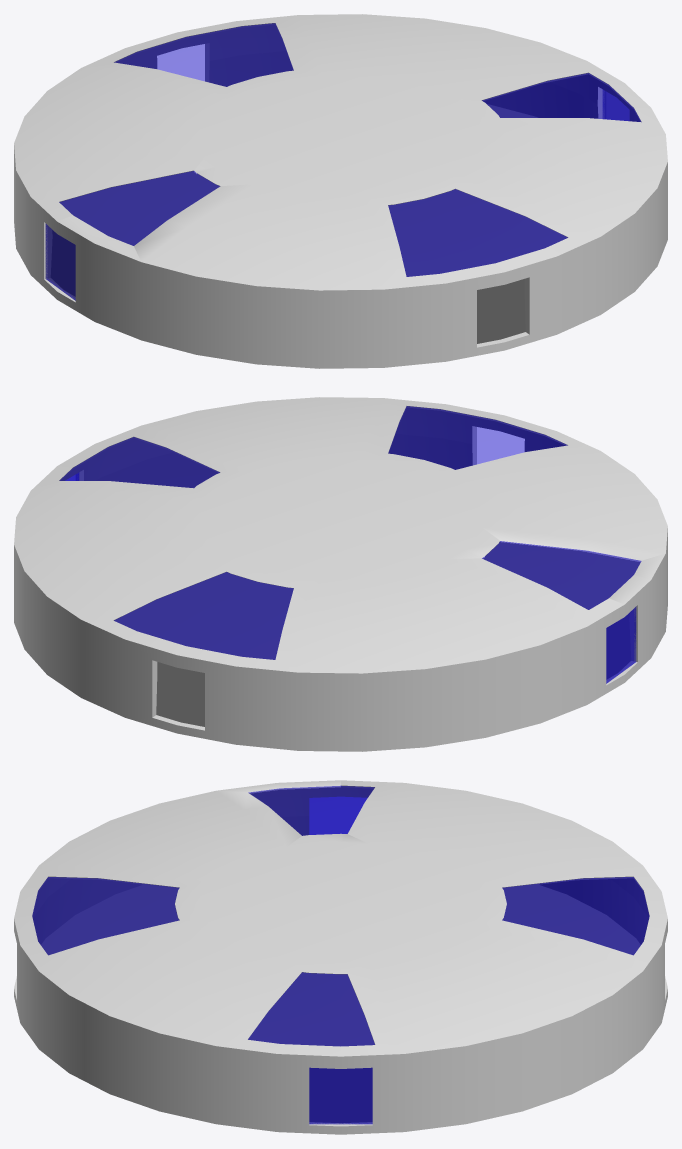
File: spaceship.fbx
3 views of the same model, one above another, from view 1: azimuth 30°, elevation 25°; view 2: azimuth 150°, elevation 25°; view 3: azimuth 270°, elevation 25° (orthographic).
Visible parts, largest first — view 1: top, bottom, top.001, glass.001, glass; view 2: top, bottom, top.001, glass.001; view 3: top, bottom, top.001, glass, glass.001.
Boxes of the visible parts, x1,y1,x2,y2 form: top: (14, 14, 667, 320); bottom: (14, 51, 667, 368); top.001: (59, 23, 640, 276); glass.001: (45, 223, 75, 300); glass: (603, 90, 629, 120); top: (14, 397, 667, 703); bottom: (14, 434, 667, 751); top.001: (59, 406, 641, 659); glass.001: (606, 606, 636, 683); top: (14, 780, 667, 1085); bottom: (14, 816, 667, 1134); top.001: (32, 785, 649, 1046); glass: (309, 1067, 372, 1124); glass.001: (309, 797, 367, 834).
Bounding box in the file's own units: 4136 × 763 × 4136.
